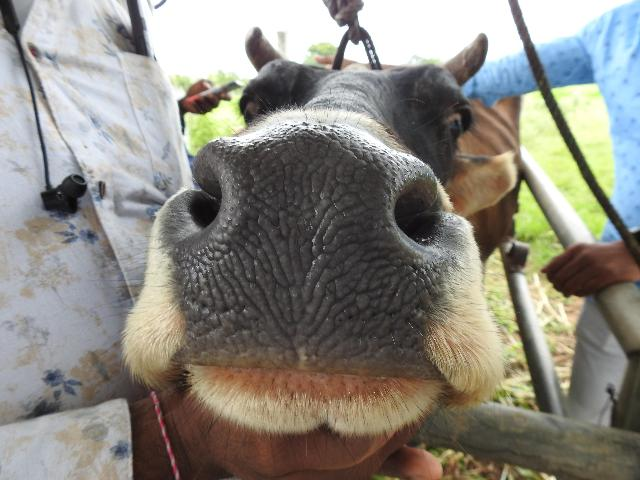Muzzle: (194, 136, 428, 377)
